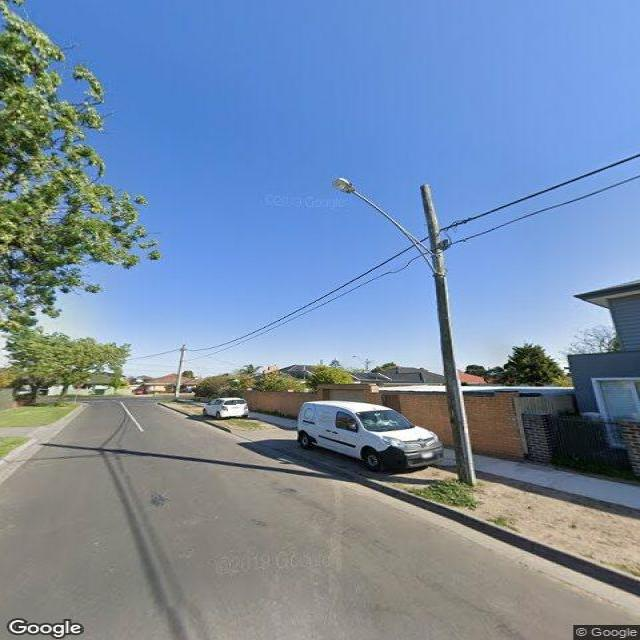streetlight: (334, 175, 440, 273)
timber-pole: (418, 185, 477, 487), (173, 344, 187, 401)
